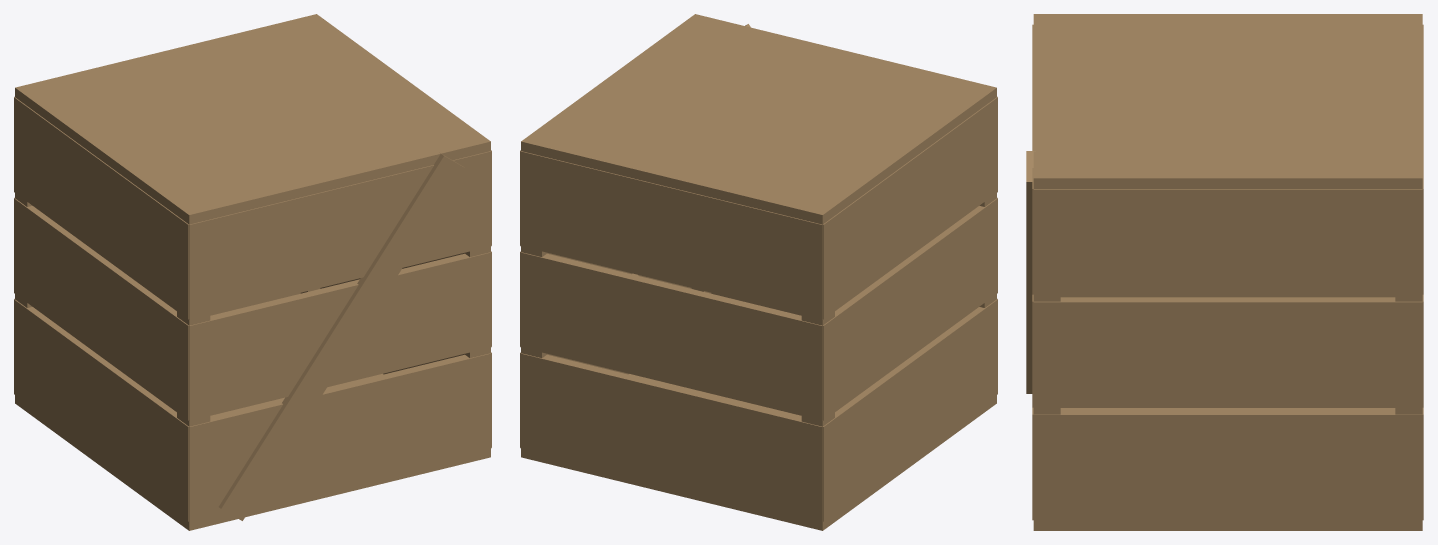
The model's file is caisse_petite.glb.
3 views of the same model, side by side, from view 1: azimuth 30°, elevation 25°; view 2: azimuth 150°, elevation 25°; view 3: azimuth 270°, elevation 25° (orthographic). The views are drawn at different scales.
Parts seen in each view (by area): view 1: caisse_petite_planches, caisse_petite_montants; view 2: caisse_petite_planches, caisse_petite_montants; view 3: caisse_petite_planches, caisse_petite_montants.
Boxes of the visible parts, bbox=[...] form: caisse_petite_planches: bbox=[14, 19, 491, 530]; caisse_petite_montants: bbox=[15, 14, 490, 530]; caisse_petite_planches: bbox=[520, 19, 997, 529]; caisse_petite_montants: bbox=[521, 14, 996, 530]; caisse_petite_planches: bbox=[1032, 14, 1423, 530]; caisse_petite_montants: bbox=[1026, 14, 1422, 530].
Bounding box in the file's own units: 0.805 × 0.8008 × 0.8175.
